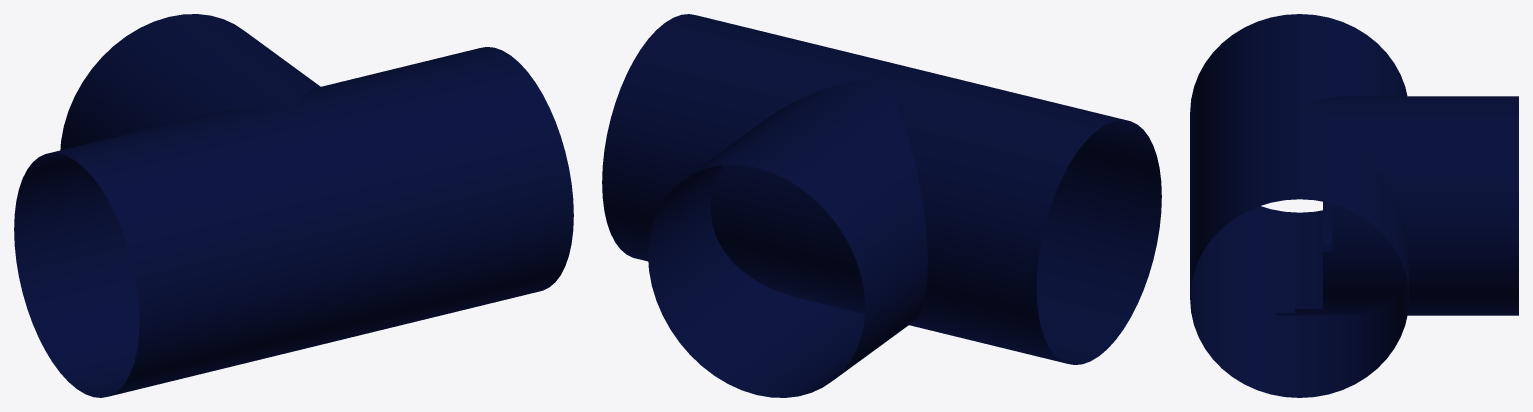
The model's file is pipeTWtexture.fbx.
3 renders of one model, left to right at view 1: azimuth 30°, elevation 25°; view 2: azimuth 150°, elevation 25°; view 3: azimuth 270°, elevation 25°, orthographic. The views are drawn at different scales.
Parts seen in each view (by area): view 1: NurbsPath; view 2: NurbsPath; view 3: NurbsPath.
Boxes of the visible parts, x1,y1,x2,y2 form: NurbsPath: (14, 14, 573, 397); NurbsPath: (602, 14, 1161, 397); NurbsPath: (1190, 14, 1518, 397).
Size of the model in its own units: 100 by 50 by 75.
